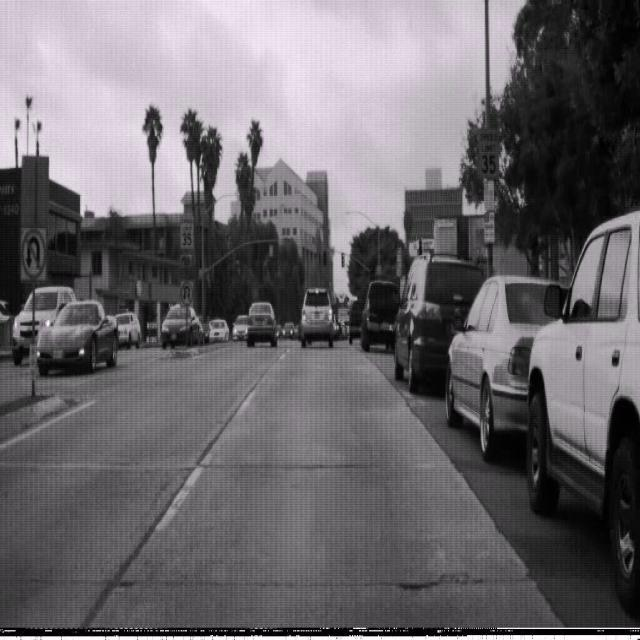speedLimit35: (478, 126, 500, 178), (179, 213, 195, 250)
